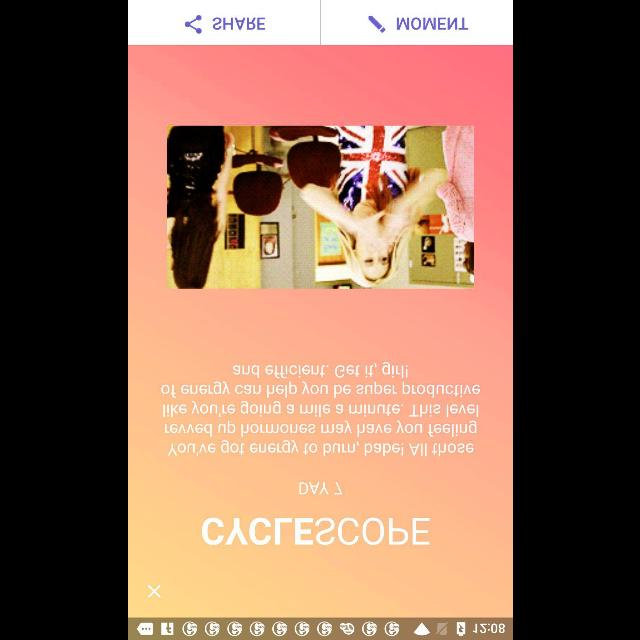icon: (148, 584, 160, 598)
image: (166, 125, 474, 288)
text: (160, 362, 480, 456), (201, 517, 429, 545), (298, 482, 342, 494)
textbutton: (320, 0, 512, 44), (127, 0, 319, 44)
uppertaskbar: (128, 617, 512, 639)
